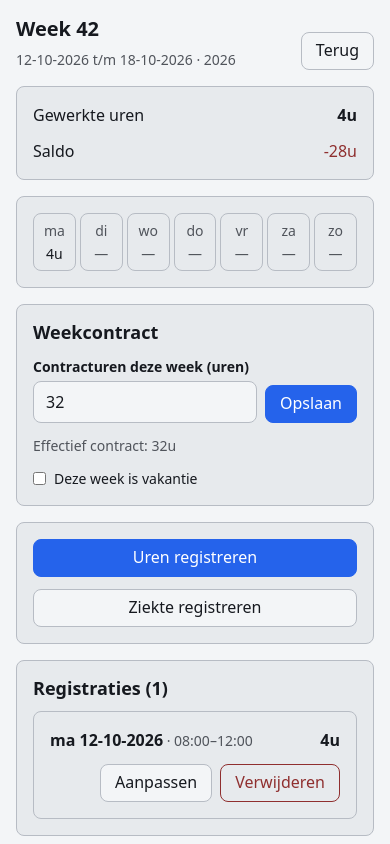
Test case: WeekDetailPage › werkt een registratie bij via het formulier
Step 1. Click the button "Aanpassen" → [156, 783], box [100,764,212,802]
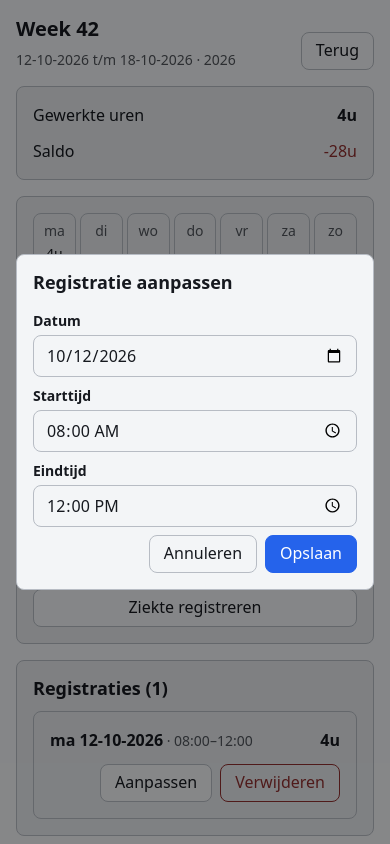
Step 2. Replace the text in the time field with id "registration-end" with "14:00" → [195, 506], box [33,485,357,527]
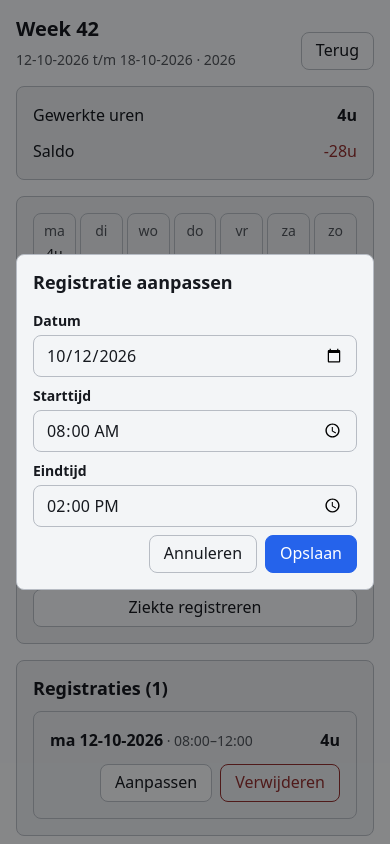
Step 3. Submit the form, box [33,310,357,573]
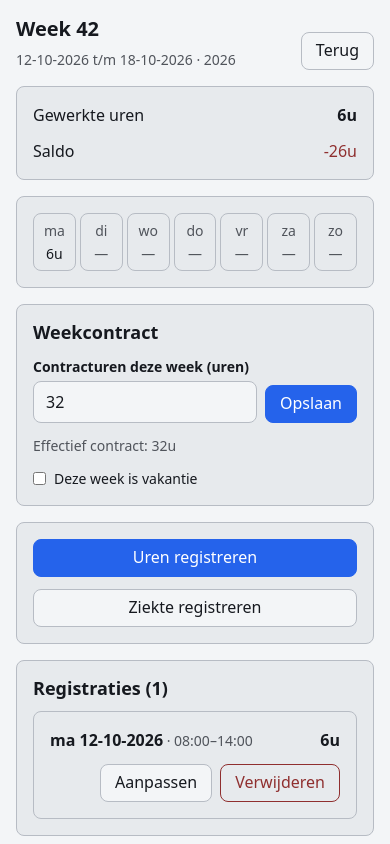
Now the text "6u" is shown, box [337,103,357,127]
